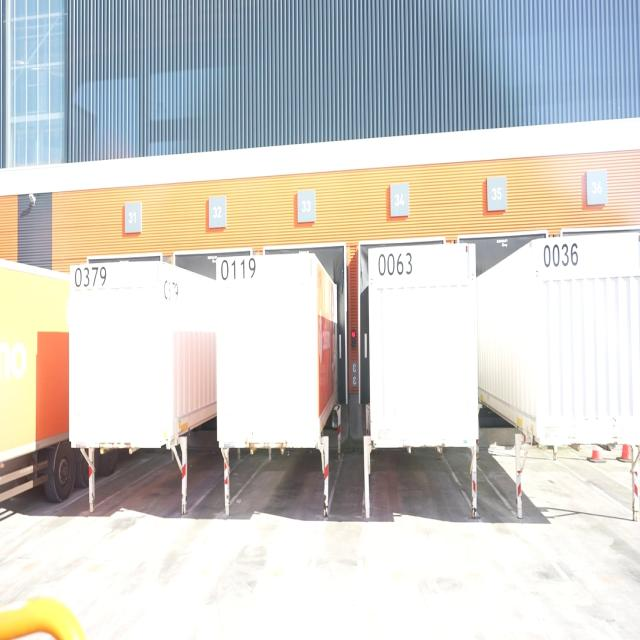Code: (541, 238, 580, 275), (376, 248, 415, 284), (219, 255, 257, 283), (73, 264, 107, 290)
